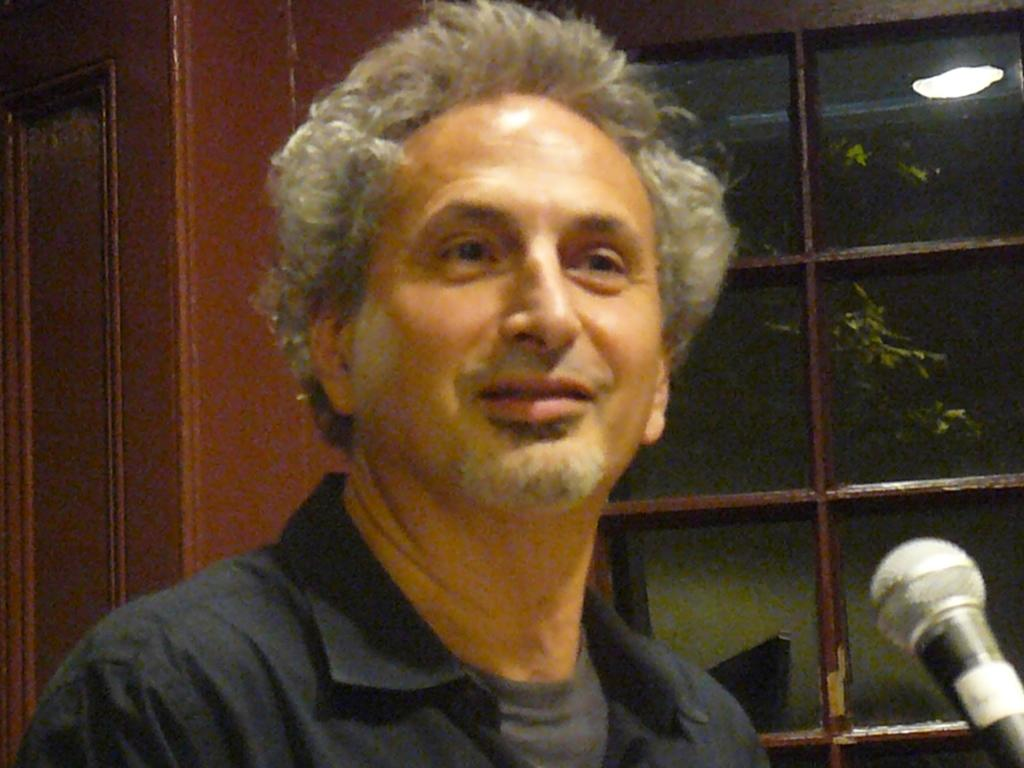Sem Máscara: (346, 90, 658, 520)
